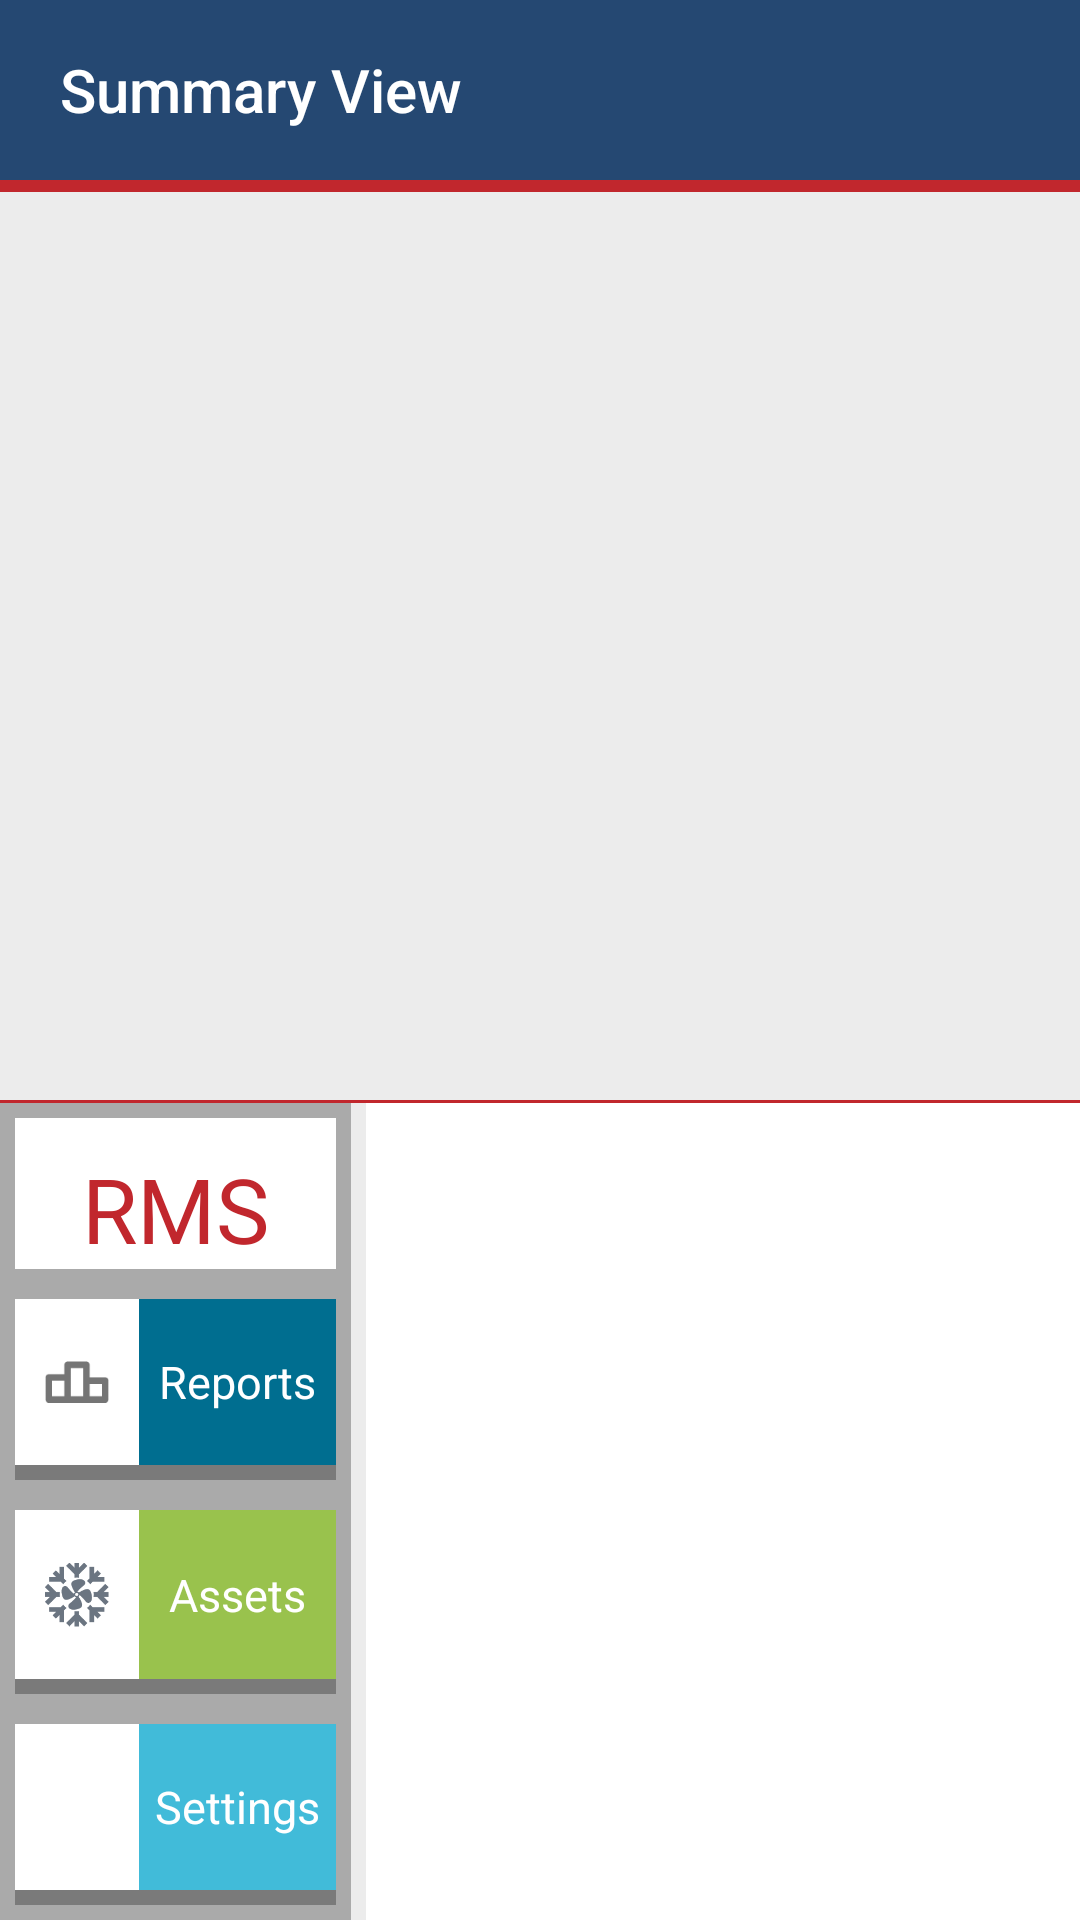

Icon click points for this 1080 × 1920 phone screenshot, format [x,y]:
chiller: [77,1594]
